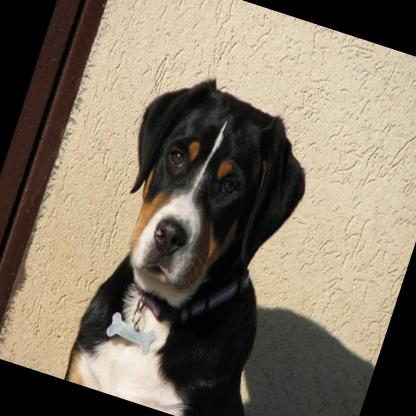Greater_Swiss_Mountain_dog: (57, 59, 416, 416)
